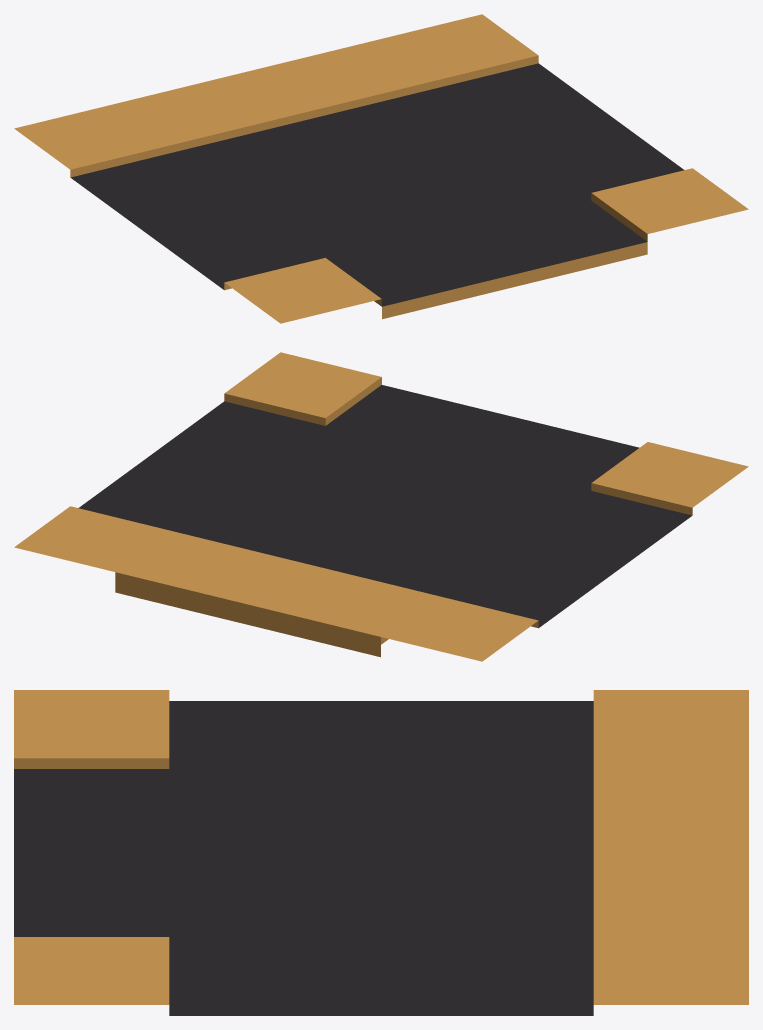
Rendered from T-Inter.fbx.
The picture shows the model from 3 angles, top to bottom: view 1: azimuth 30°, elevation 25°; view 2: azimuth 150°, elevation 25°; view 3: azimuth 270°, elevation 25°; orthographic projection. The views are drawn at different scales.
Parts seen in each view (by area): view 1: Cube.006; view 2: Cube.006; view 3: Cube.006.
Part boxes in pixels (<box>): Cube.006: <box>14,14,748,323</box>; Cube.006: <box>14,352,748,661</box>; Cube.006: <box>14,690,748,1015</box>.
Size of the model in its own units: 533 by 22.13 by 525.
